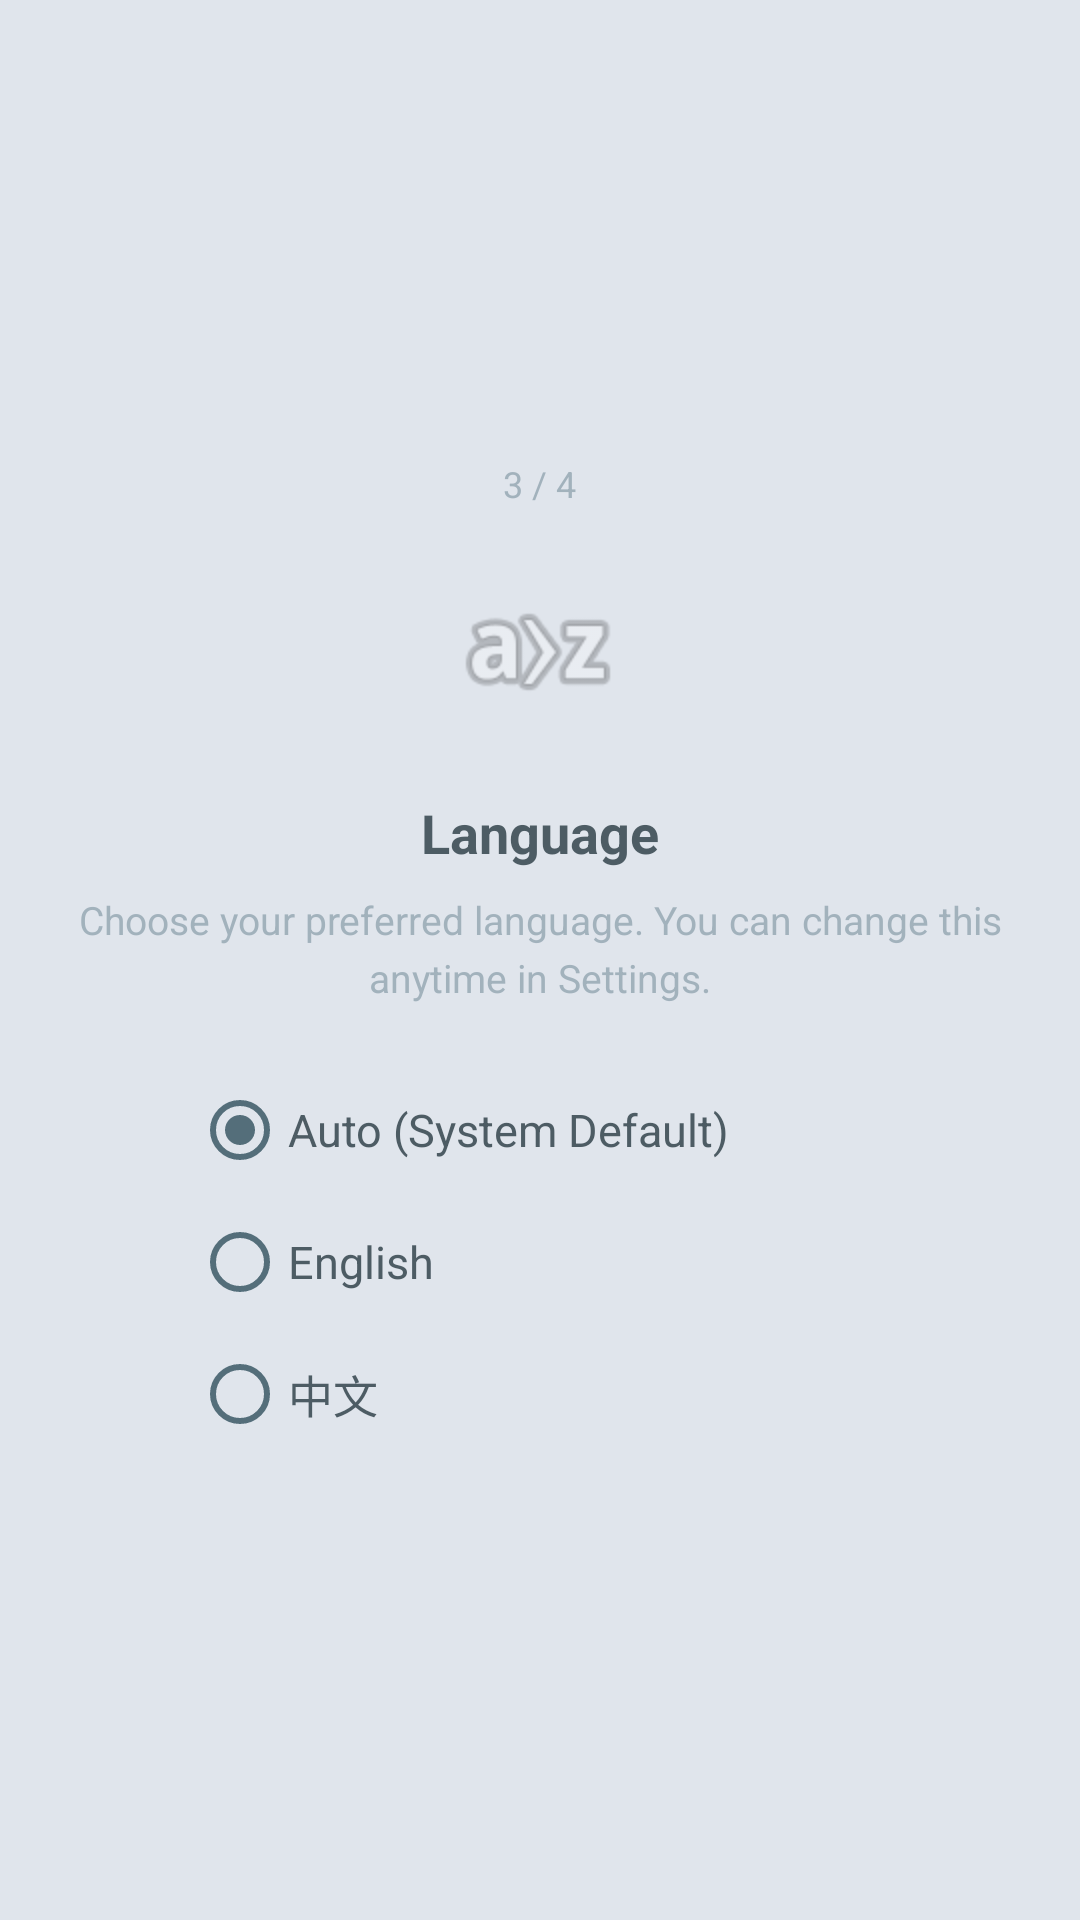

Screen size 1080 x 1920. Icon name, then its center in pixels as (x=x, y=y):
sort alphabetically: (x=538, y=652)
